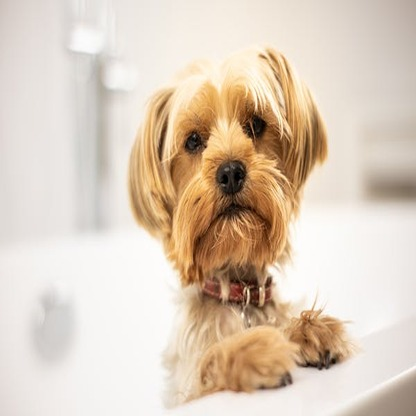yorkshire: (130, 42, 356, 393)
